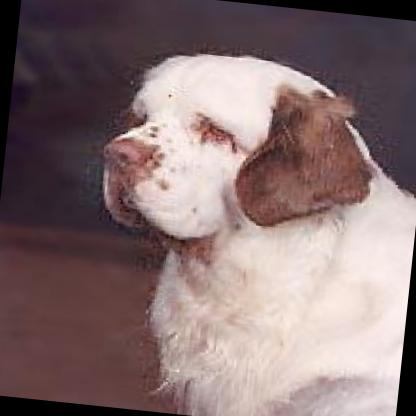clumber: (62, 22, 416, 416)
